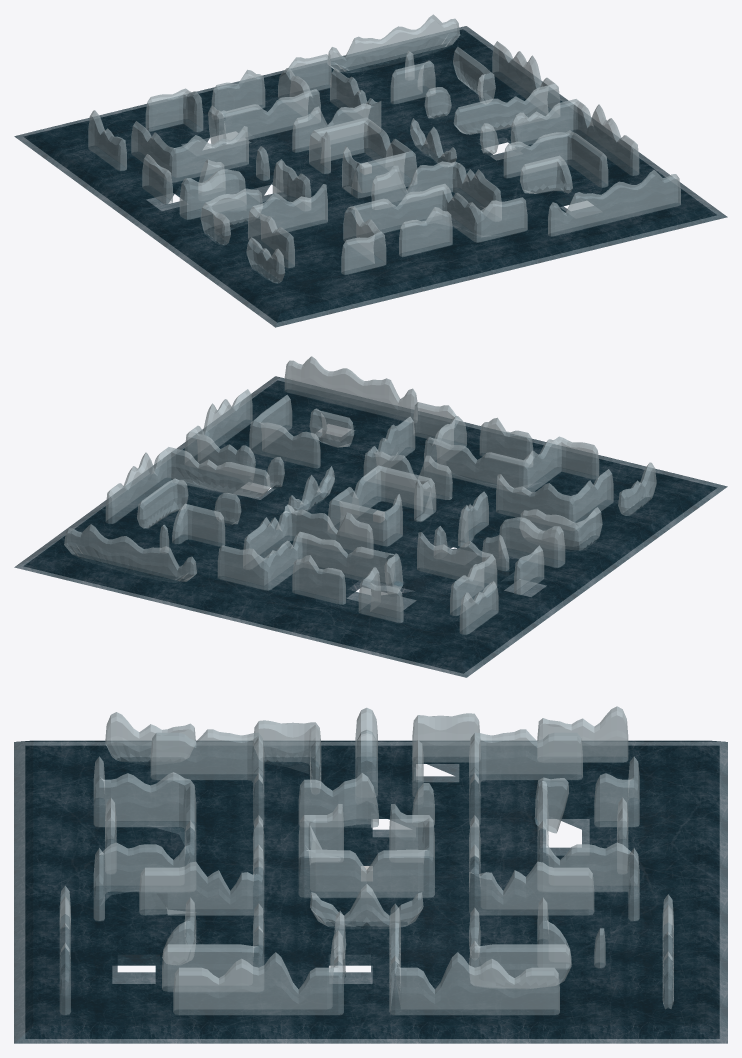
Rendered from Ice_labyrinth1.1.5blend.fbx.
The picture shows the model from 3 angles, top to bottom: view 1: azimuth 30°, elevation 25°; view 2: azimuth 150°, elevation 25°; view 3: azimuth 270°, elevation 25°; orthographic projection. The views are drawn at different scales.
Visible parts, largest first — view 1: Floor, Walls, Floor_001; view 2: Floor, Walls, Floor_001; view 3: Floor, Floor_001, Walls.
Part boxes in pixels (left/top/right/bottom): Floor: left=14, top=26, right=727, bottom=327; Walls: left=88, top=14, right=680, bottom=283; Floor_001: left=24, top=29, right=716, bottom=322; Floor: left=14, top=376, right=727, bottom=677; Walls: left=64, top=356, right=656, bottom=634; Floor_001: left=24, top=381, right=716, bottom=673; Floor: left=14, top=740, right=727, bottom=1043; Floor_001: left=25, top=746, right=719, bottom=1038; Walls: left=59, top=706, right=673, bottom=1015.
Bounding box in the file's own units: 117 × 12.66 × 117.
